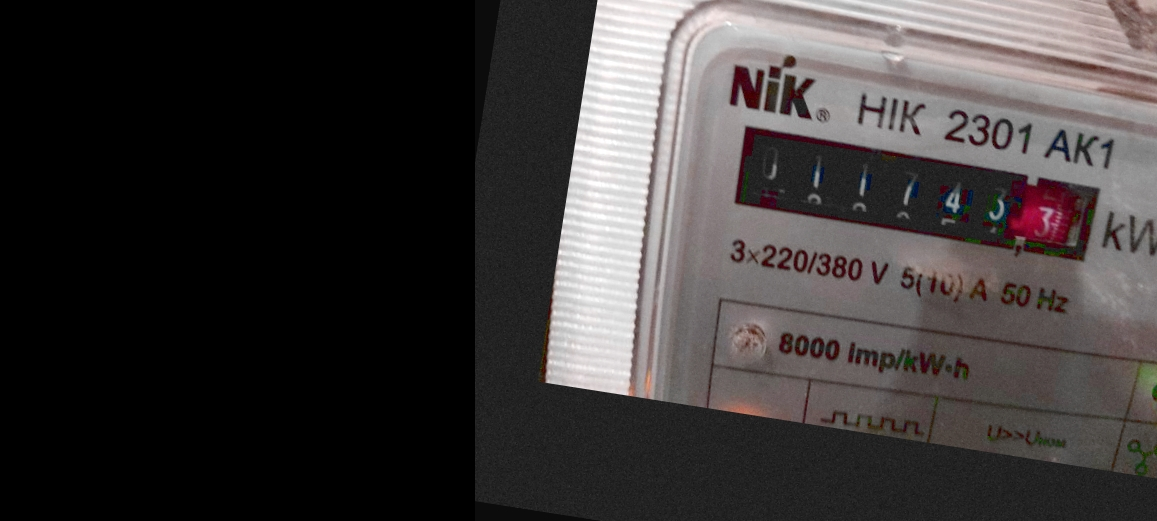0: (756, 142, 784, 184), (806, 148, 830, 192)
1: (852, 157, 874, 200)
3: (984, 180, 1011, 226), (1031, 201, 1056, 241)
4: (940, 174, 966, 216)
7: (894, 163, 923, 210)
screen: (711, 109, 1111, 275)
